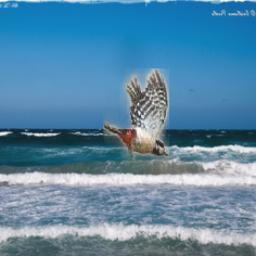Woodpecker: (102, 69, 168, 164)
